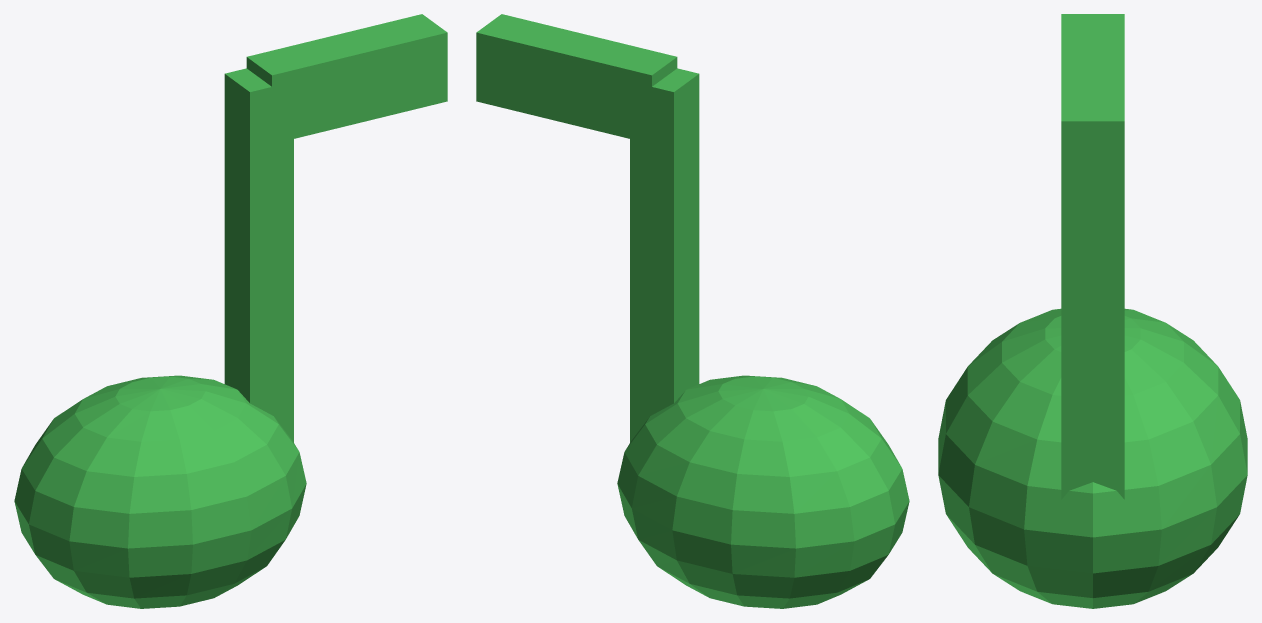
File: Item_CalmMusic.obj
The picture shows the model from 3 angles, left to right: view 1: azimuth 30°, elevation 25°; view 2: azimuth 150°, elevation 25°; view 3: azimuth 270°, elevation 25°; orthographic projection. The views are drawn at different scales.
Visible parts, largest first — view 1: Item_CalmMusic; view 2: Item_CalmMusic; view 3: Item_CalmMusic.
Part boxes in pixels (<box>): Item_CalmMusic: <box>14,14,447,608</box>; Item_CalmMusic: <box>476,14,909,608</box>; Item_CalmMusic: <box>938,14,1247,608</box>.
Bounding box in the file's own units: 0.37 × 0.44 × 0.195.
